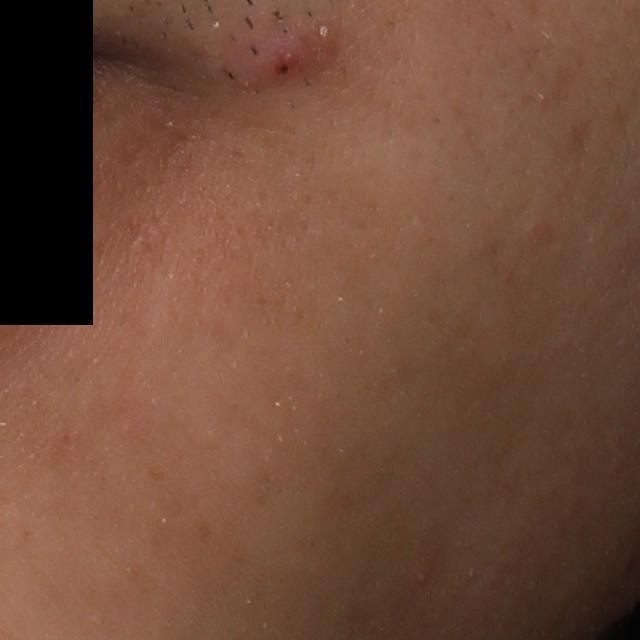papule: (246, 33, 310, 91)
